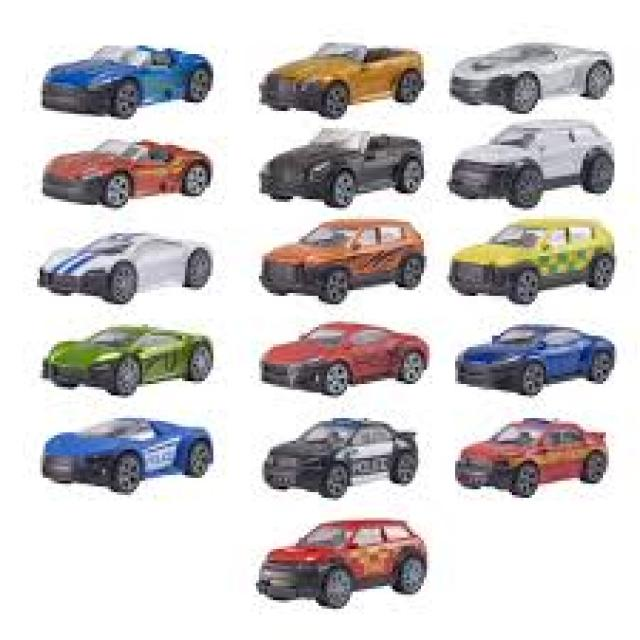Car: (253, 515, 427, 609), (446, 116, 614, 208), (446, 216, 614, 304), (259, 216, 424, 304), (256, 125, 424, 208), (256, 318, 430, 396), (40, 415, 213, 492), (452, 415, 609, 498), (262, 415, 418, 498), (40, 42, 213, 116), (37, 230, 210, 304), (40, 322, 213, 396), (256, 40, 424, 116), (40, 136, 210, 208), (452, 322, 614, 396), (450, 40, 614, 111)
